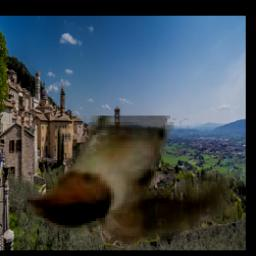Swallow: (25, 117, 235, 248)
